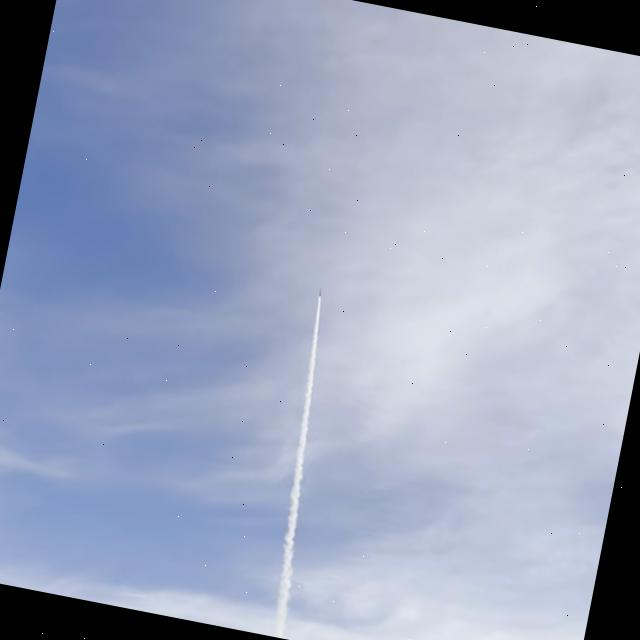smoke_trail_with_rocket: (274, 291, 322, 639)
